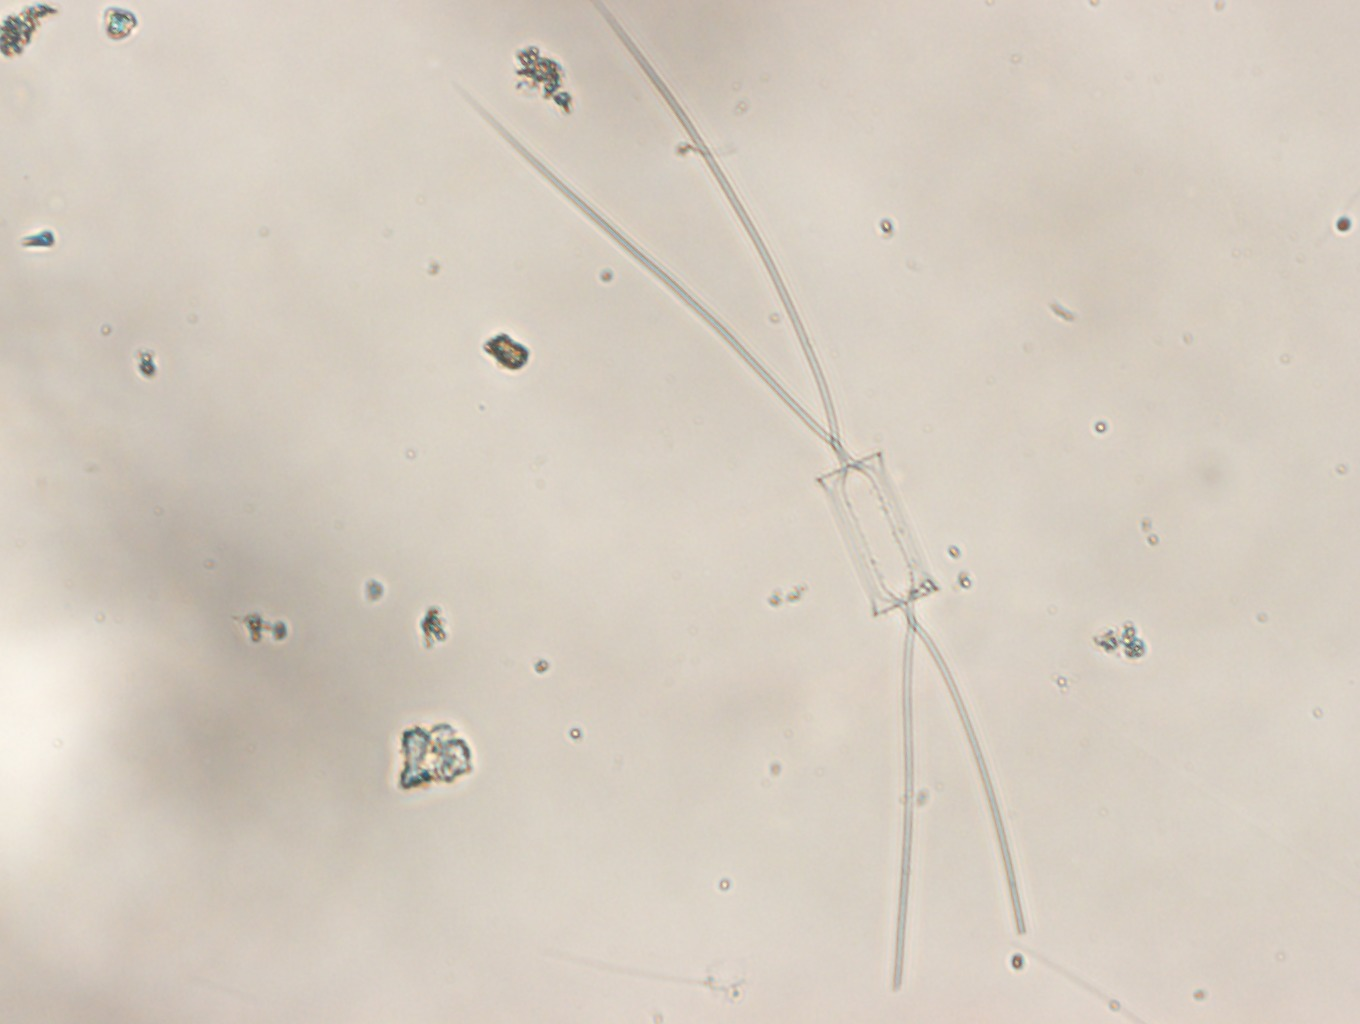chaetoceros: (455, 1, 1025, 993)
